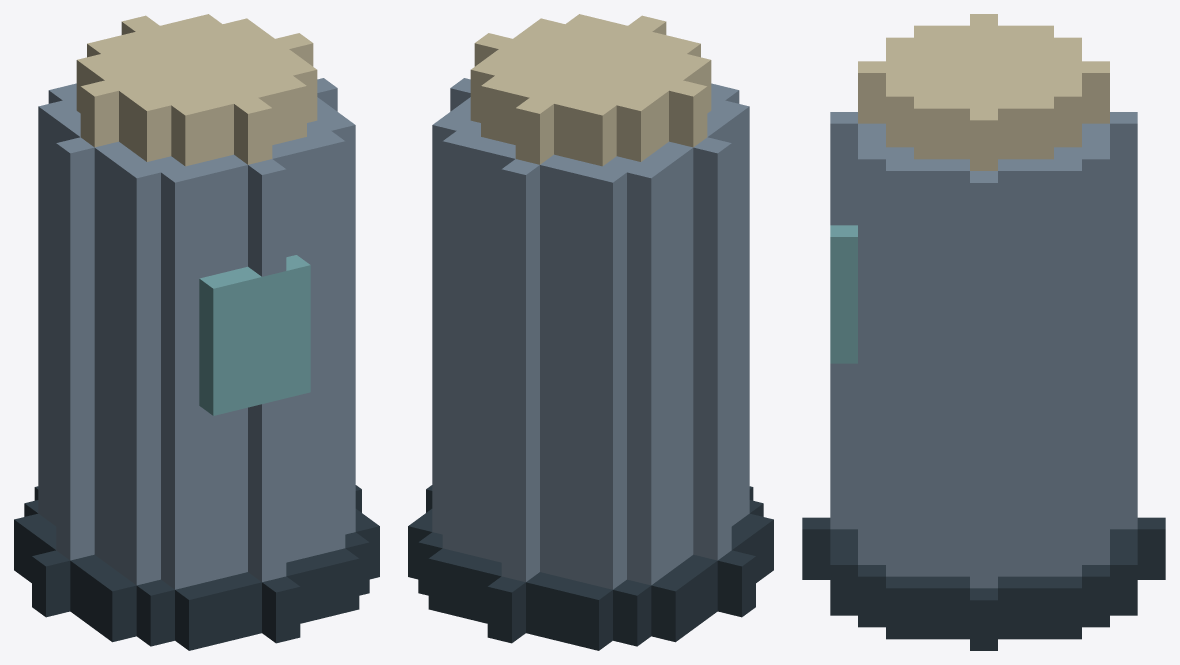
File: physics-18.glb
3 views of the same model, side by side, from view 1: azimuth 30°, elevation 25°; view 2: azimuth 150°, elevation 25°; view 3: azimuth 270°, elevation 25° (orthographic).
Visible parts, largest first — view 1: Superconductor; view 2: Superconductor; view 3: Superconductor.
Boxes of the visible parts, bbox=[...] form: Superconductor: bbox=[14, 14, 379, 650]; Superconductor: bbox=[408, 14, 773, 650]; Superconductor: bbox=[802, 14, 1165, 650].
Bounding box in the file's own units: 1.04 × 1.6 × 1.04.
